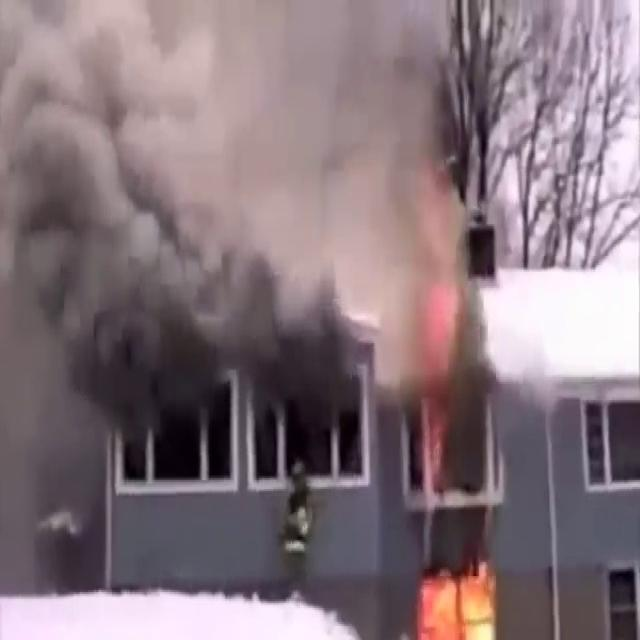Fire: (412, 544, 508, 640)
Smoke: (0, 0, 457, 533)
